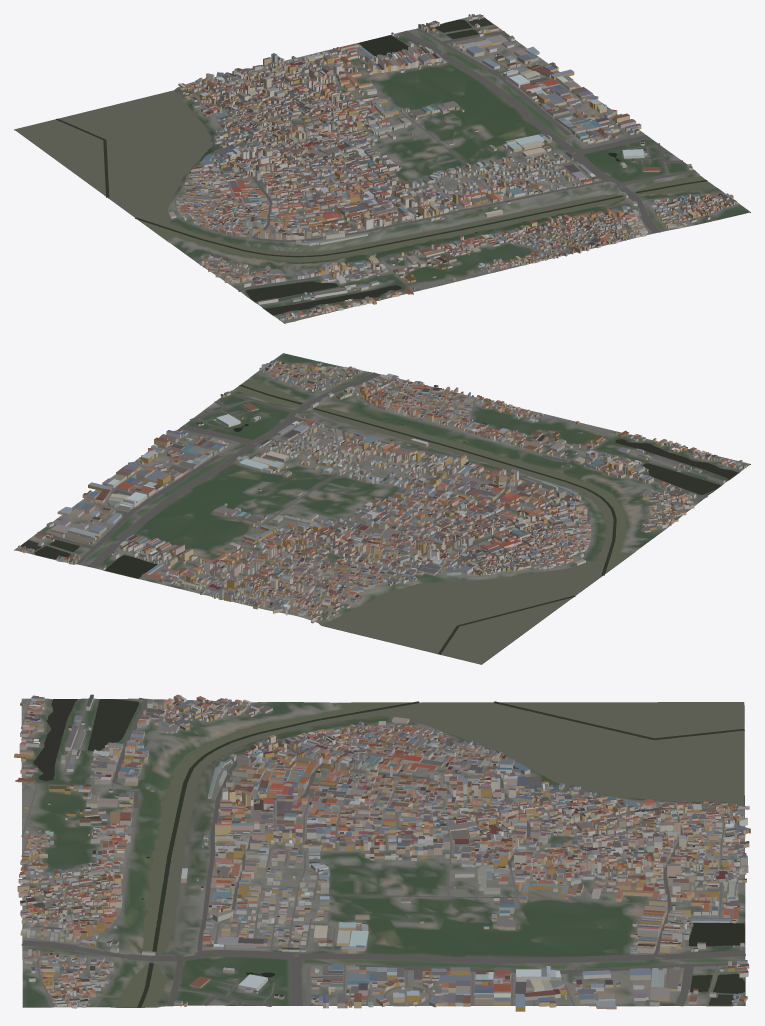
3 views of the same model, one above another, from view 1: azimuth 30°, elevation 25°; view 2: azimuth 150°, elevation 25°; view 3: azimuth 270°, elevation 25° (orthographic). The views are drawn at different scales.
Visible parts, largest first — view 1: buildings, ground, water, roads; view 2: buildings, ground, water, roads; view 3: buildings, ground, water, roads.
Boxes of the visible parts, x1,y1,x2,y2 form: buildings: [168, 14, 737, 321]; ground: [14, 14, 750, 323]; water: [15, 18, 714, 315]; roads: [175, 24, 739, 322]; buildings: [18, 360, 746, 623]; ground: [14, 353, 750, 664]; water: [20, 379, 738, 664]; roads: [28, 362, 748, 615]; buildings: [14, 694, 750, 1011]; ground: [21, 698, 745, 1007]; water: [33, 699, 744, 1007]; roads: [21, 697, 745, 1007].
Size of the model in its own units: 1430 by 40.68 by 1429.
